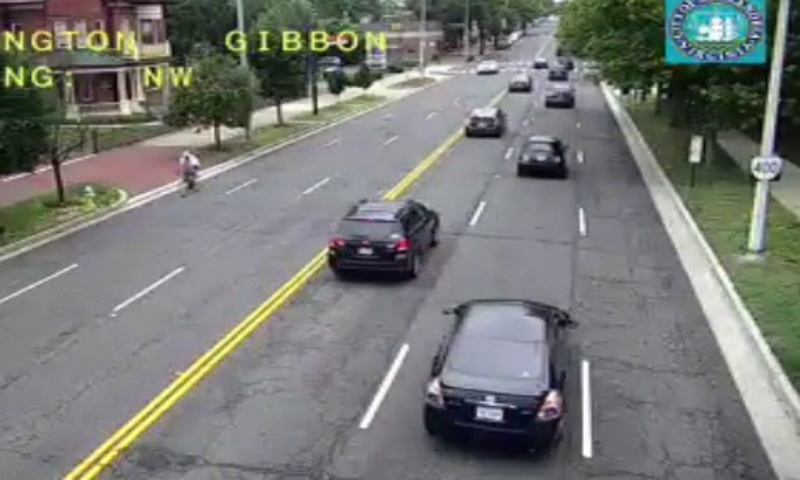car: (423, 300, 563, 445), (328, 200, 438, 271), (516, 135, 563, 168), (465, 108, 502, 135)
